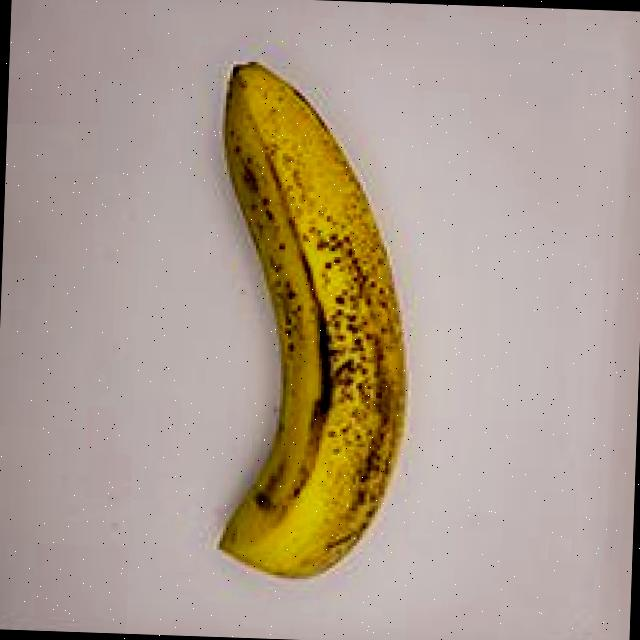Overripe: (144, 41, 433, 602)
